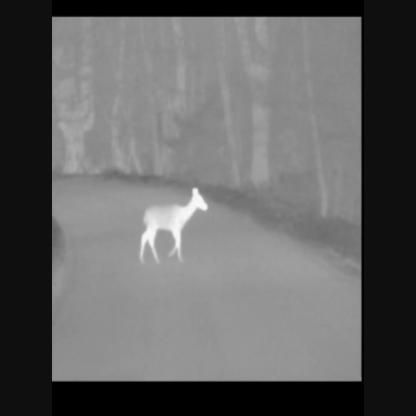rehkitze: (137, 187, 211, 267)
